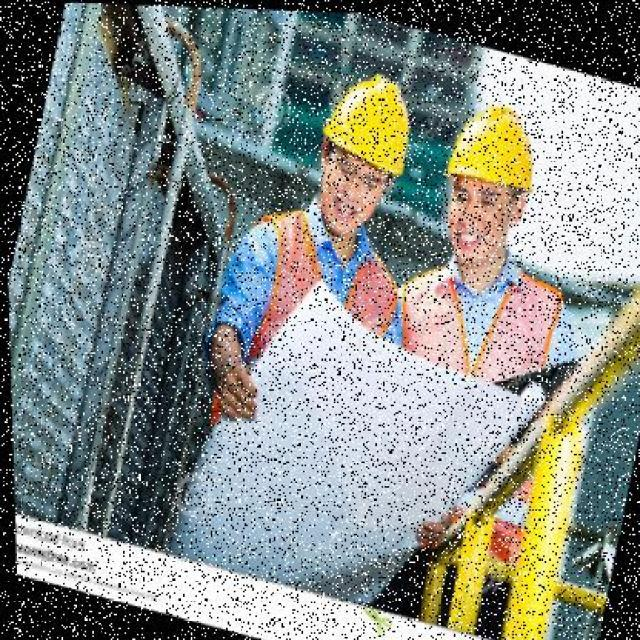helmet: (433, 85, 556, 213), (308, 57, 431, 185)
